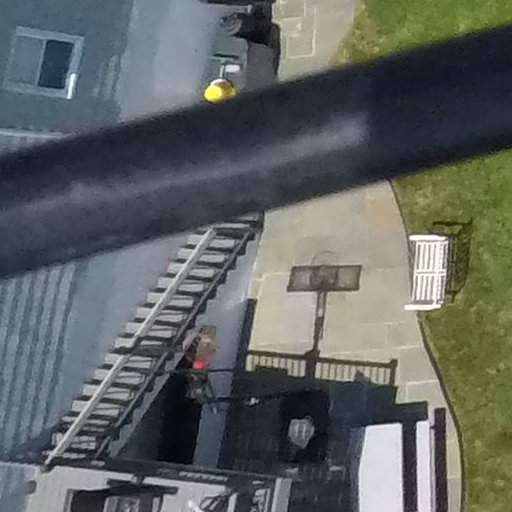basketball: (227, 243, 383, 475)
